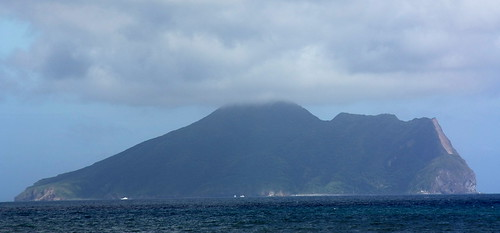turtleIsland: (11, 99, 478, 196)
